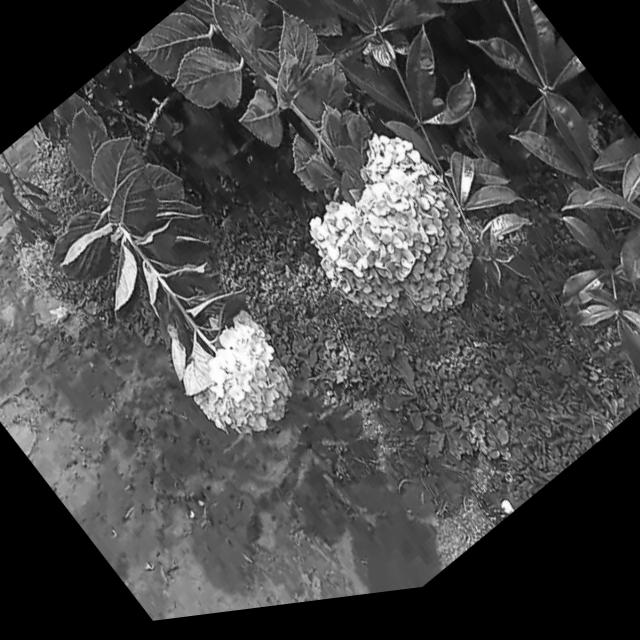Flower: (278, 114, 509, 383), (168, 306, 312, 472), (5, 220, 81, 314)
